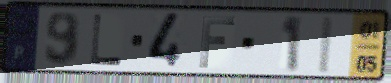1: (279, 14, 303, 75)
4: (144, 10, 188, 73)
9: (43, 10, 81, 68)
F: (197, 15, 238, 70)
I: (314, 14, 337, 76)
L: (88, 12, 125, 67)
